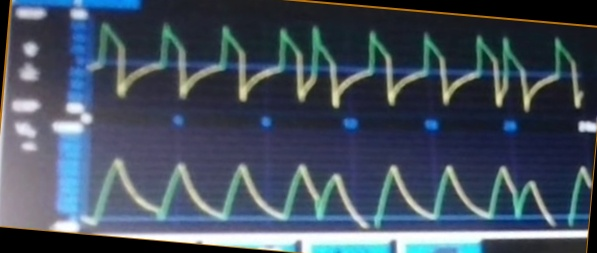Double_Triggering Flow: (94, 21, 581, 113)
Double_Triggering Volume: (115, 147, 586, 227)
